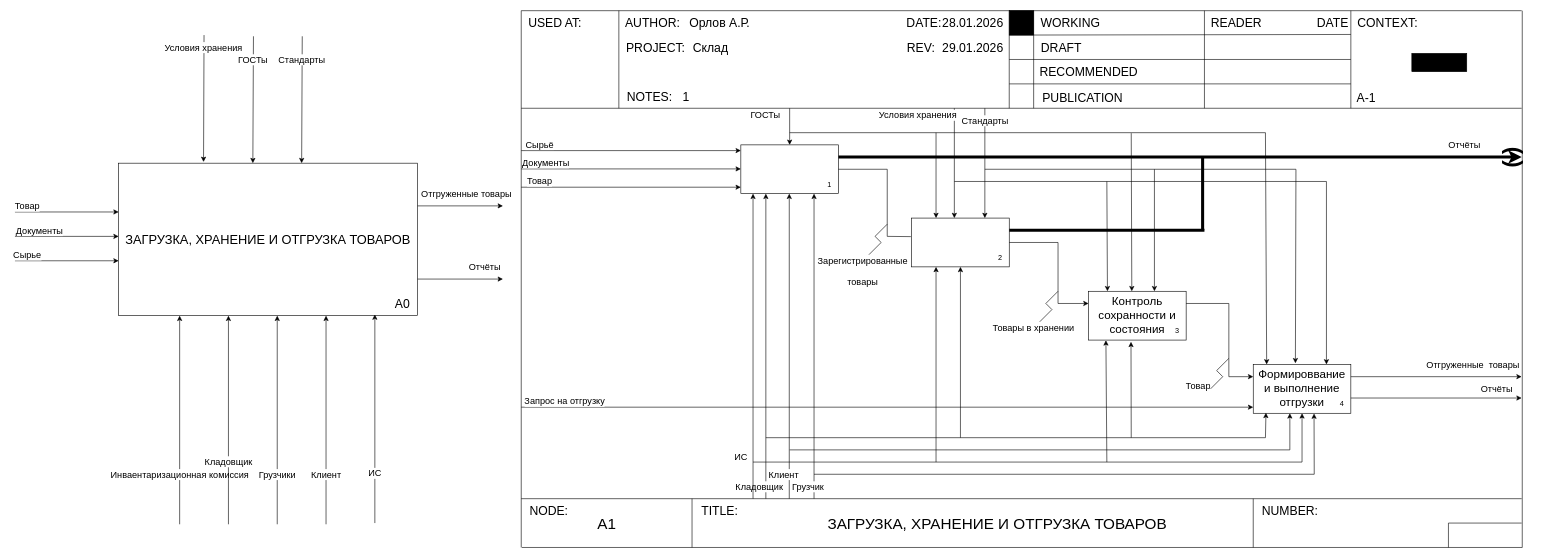
Image size: 1545x559. Some labels were removed from this diagram. Here are the shapes that lost their labels. From the top down, the box of each, then its label:
(740, 144, 838, 194): Принять и зарегистрировать поступление
(911, 217, 1009, 267): Организация размещения и хранения
